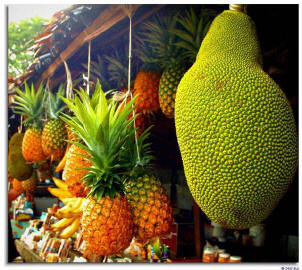jackfruit: (170, 8, 298, 231)
